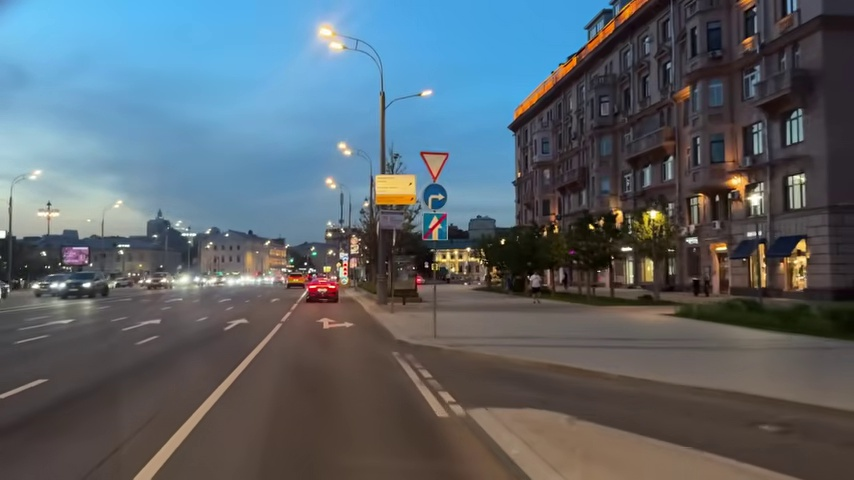acesa: (318, 24, 340, 47), (337, 142, 353, 158), (675, 85, 691, 101), (323, 176, 338, 191), (27, 168, 42, 182), (110, 200, 123, 213)
apagada: (417, 86, 433, 100)
